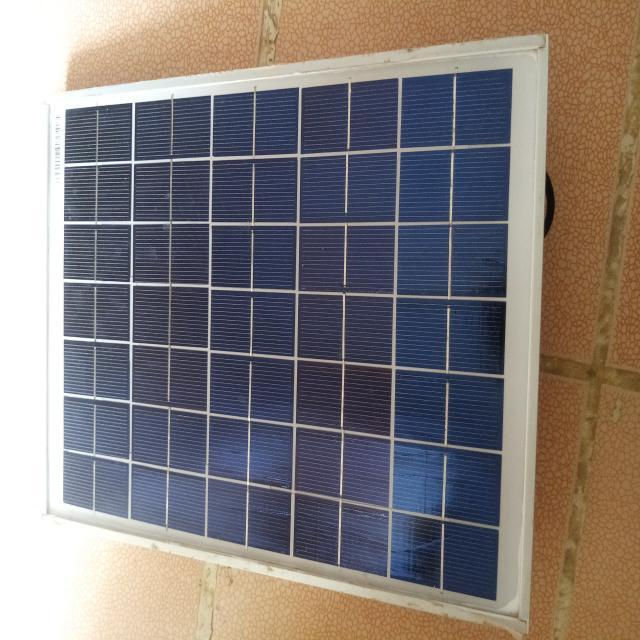no faulty: (42, 41, 546, 628)
